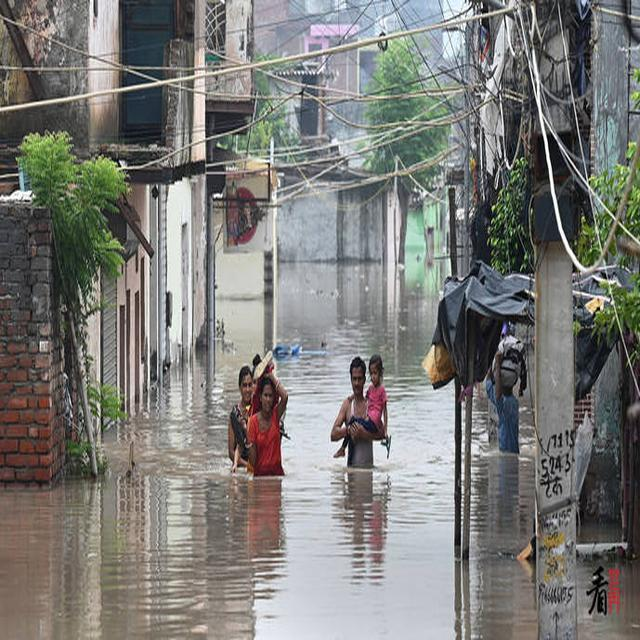Person-RiskLevel3: (327, 357, 391, 472), (246, 353, 302, 481), (225, 369, 258, 466)
